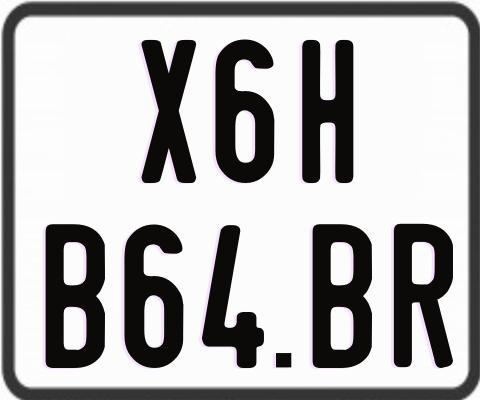4: (201, 224, 268, 370)
6: (124, 223, 189, 372), (213, 38, 275, 185)
B: (46, 223, 109, 372), (310, 221, 373, 366)
H: (300, 40, 353, 188)
R: (393, 223, 457, 370)
X: (139, 38, 200, 181)
